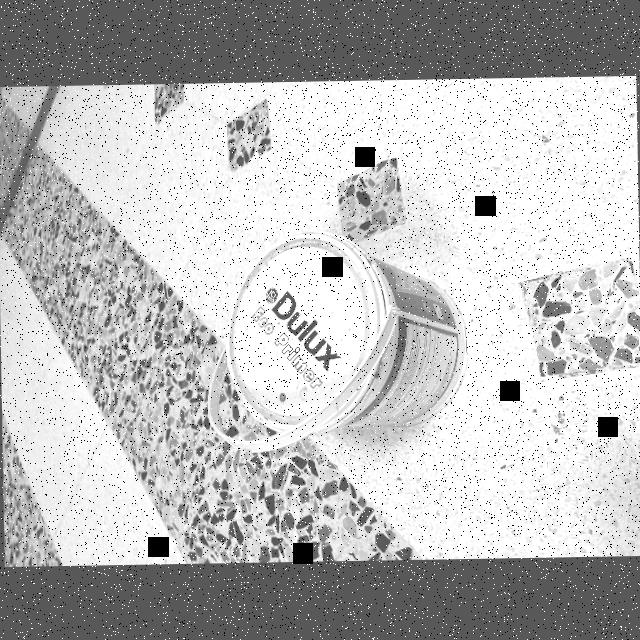paint_bucket: (210, 232, 470, 442)
